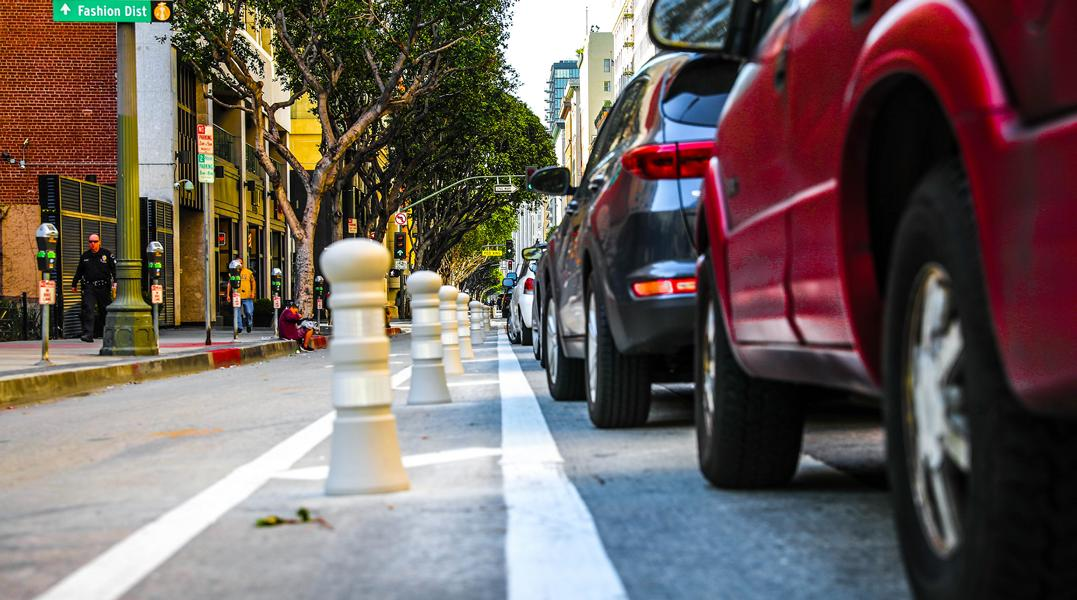Car: (649, 9, 1077, 600), (523, 47, 746, 420)
